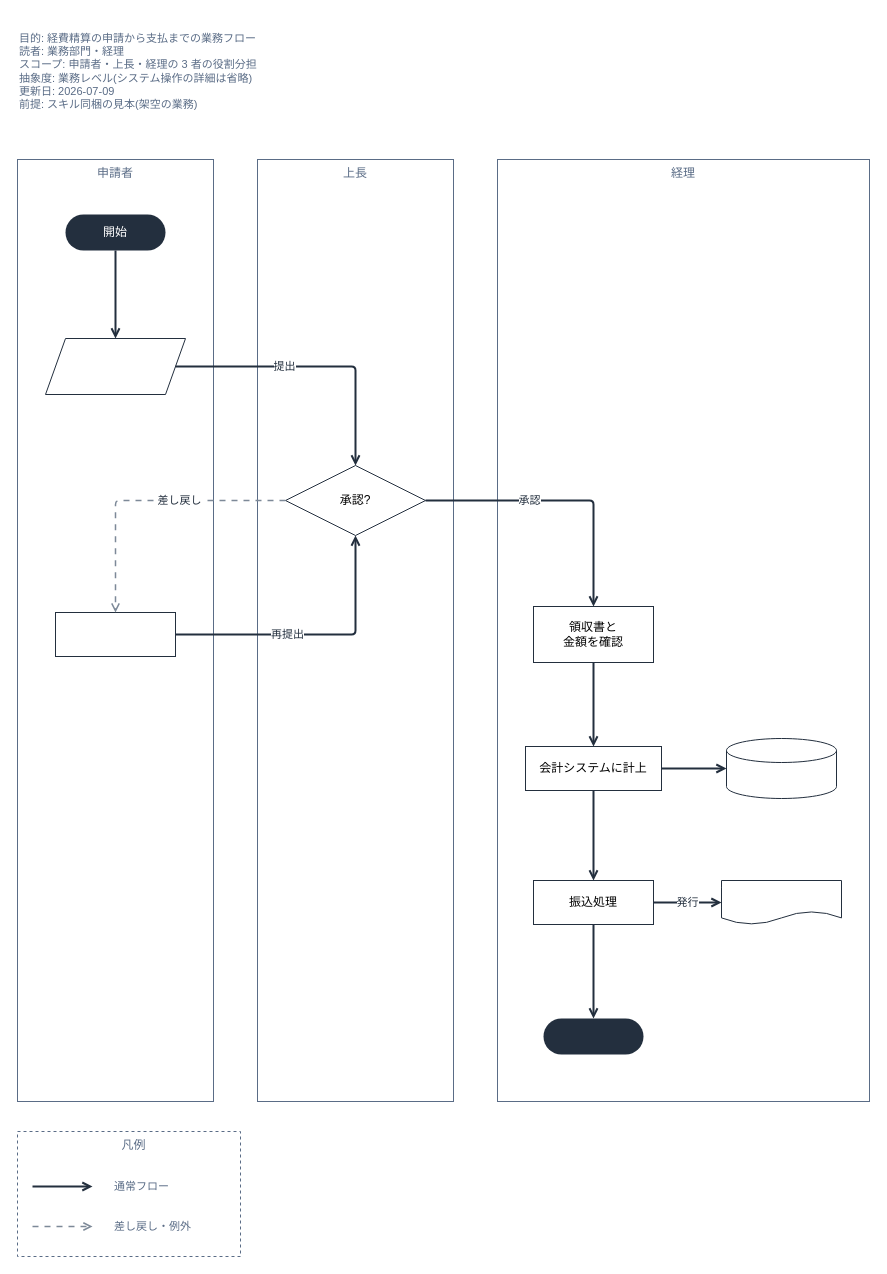
The diagram is 887 pixels wide and 1274 high, and some of its shapes have lost their labels. The shapes that lost their labels are listed below. From the top down, each one's centre as x and y in pixels, then its label:
[115,366]: 経費を申請 (領収書添付)
[115,634]: 申請を修正
[781,768]: 会計DB
[781,902]: 支払通知書
[593,1036]: 終了
